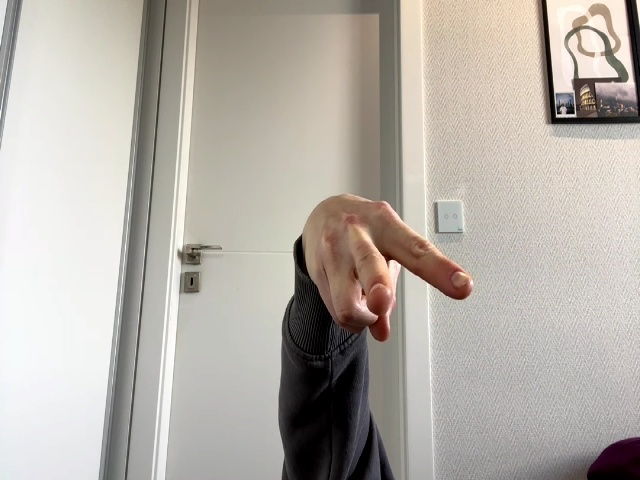U: (302, 195, 474, 342)
